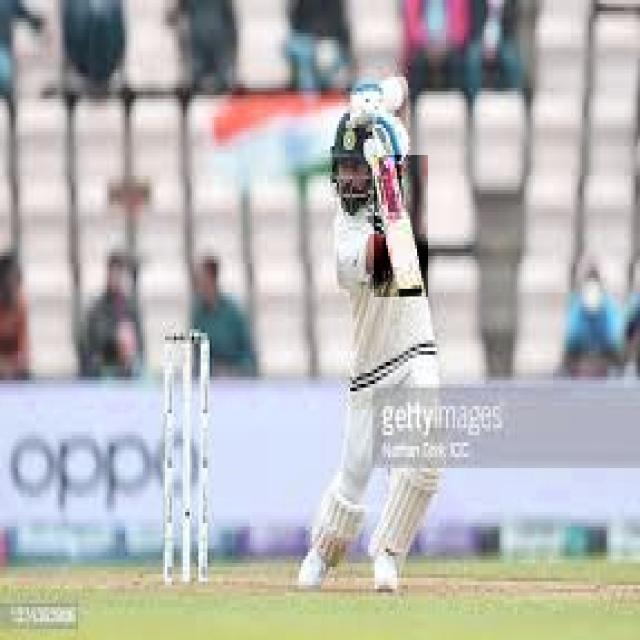bat: (373, 155, 425, 296), (395, 284, 428, 295)
